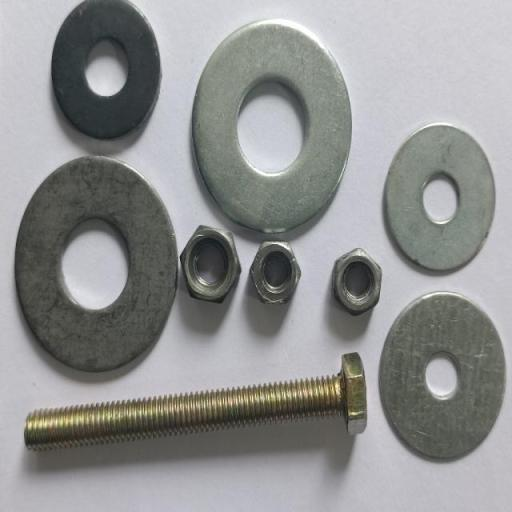Bolt: (23, 351, 369, 451)
Nut: (180, 224, 242, 305), (331, 247, 383, 316), (249, 240, 302, 305)
Washer: (13, 155, 180, 375), (191, 19, 354, 235), (377, 291, 506, 464), (382, 122, 497, 274), (50, 0, 163, 143)
